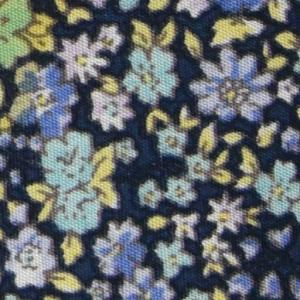Stain: (1, 1, 69, 140)
